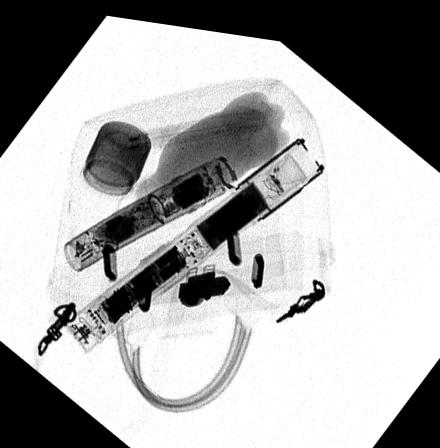Baton: (63, 125, 327, 352), (62, 147, 237, 270)
